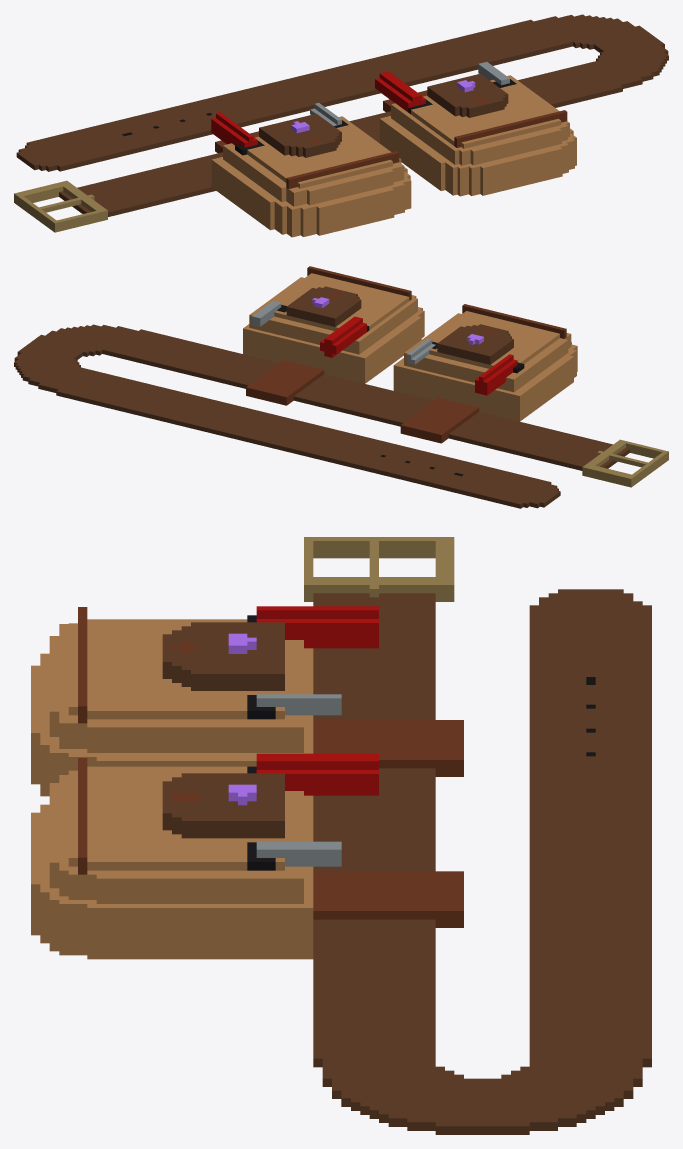
The model's file is mbelt_pockets_lesser.glb.
3 renders of one model, top to bottom at view 1: azimuth 30°, elevation 25°; view 2: azimuth 150°, elevation 25°; view 3: azimuth 270°, elevation 25°, orthographic. The views are drawn at different scales.
Parts seen in each view (by area): view 1: mbelt_pockets_lesser:compound; view 2: mbelt_pockets_lesser:compound; view 3: mbelt_pockets_lesser:compound.
Part boxes in pixels (x1=…): mbelt_pockets_lesser:compound: x1=14, y1=14, x2=668, y2=237; mbelt_pockets_lesser:compound: x1=14, y1=266, x2=668, y2=508; mbelt_pockets_lesser:compound: x1=31, y1=537, x2=651, y2=1134.
Size of the model in its own units: 0.584 by 0.056 by 0.264.
